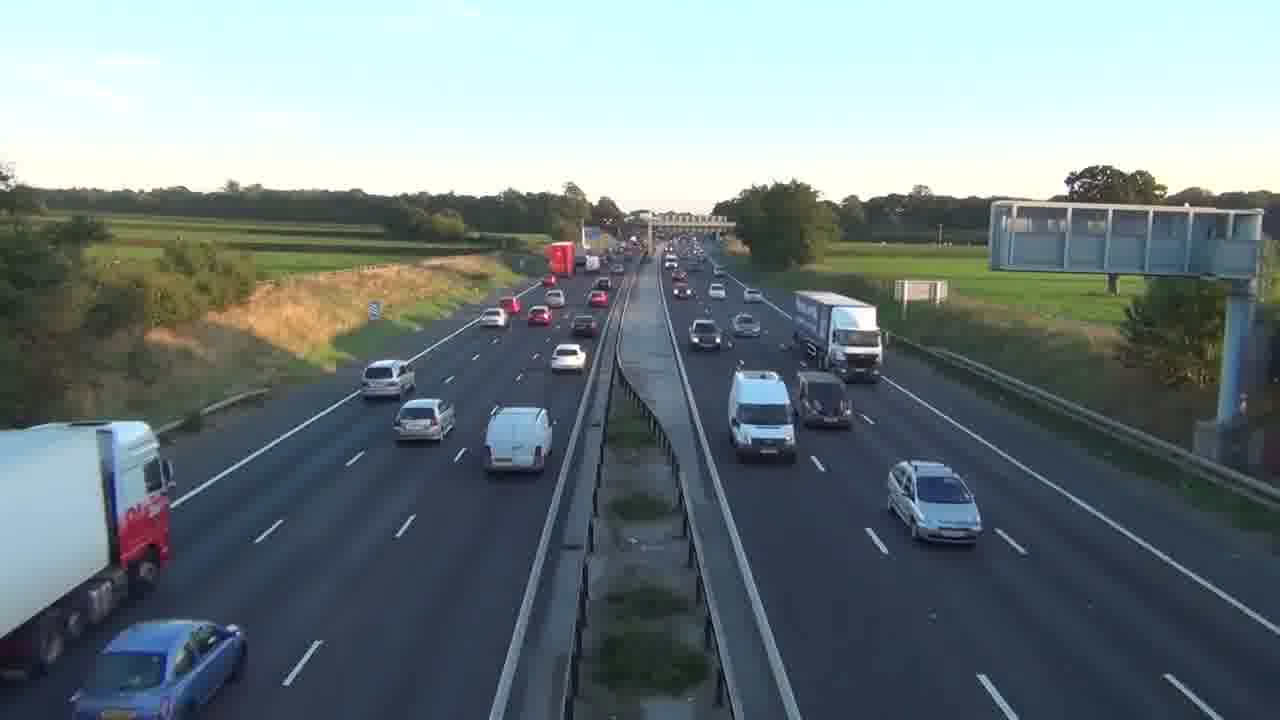bus: (793, 289, 883, 381)
car: (886, 459, 983, 546), (392, 397, 454, 444), (361, 357, 411, 400), (688, 319, 726, 352), (549, 342, 588, 373), (731, 311, 762, 338)
truck: (0, 419, 177, 679), (67, 618, 248, 719), (793, 289, 883, 381), (727, 367, 798, 463), (481, 405, 555, 475)
